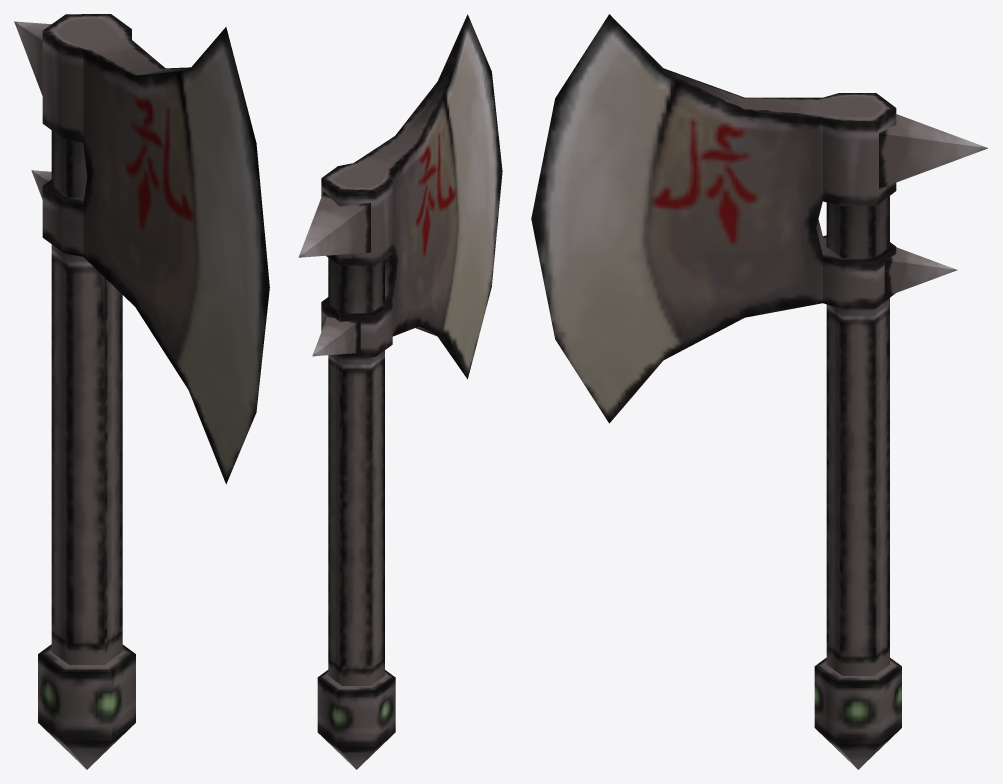
The model's file is WP_1H_Axe07.FBX.
The picture shows the model from 3 angles, left to right: view 1: azimuth 30°, elevation 25°; view 2: azimuth 150°, elevation 25°; view 3: azimuth 270°, elevation 25°; orthographic projection. The views are drawn at different scales.
Visible parts, largest first — view 1: WP_1H_Axe07; view 2: WP_1H_Axe07; view 3: WP_1H_Axe07.
Part boxes in pixels (x1,y1,x2,y2): WP_1H_Axe07: (14, 14, 269, 769); WP_1H_Axe07: (298, 14, 502, 769); WP_1H_Axe07: (531, 14, 987, 769).
Size of the model in its own units: 7.95 by 87.41 by 47.94.
1 material, 1 textured.
